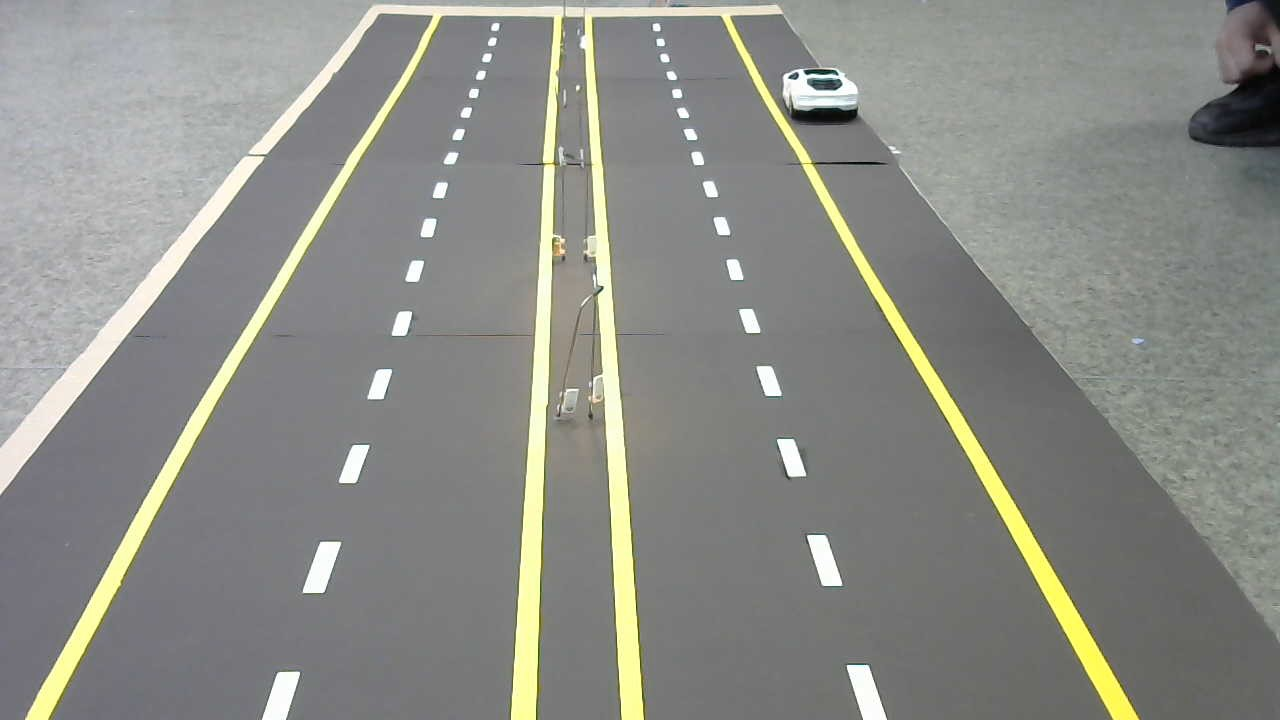back_car: (774, 64, 865, 121)
